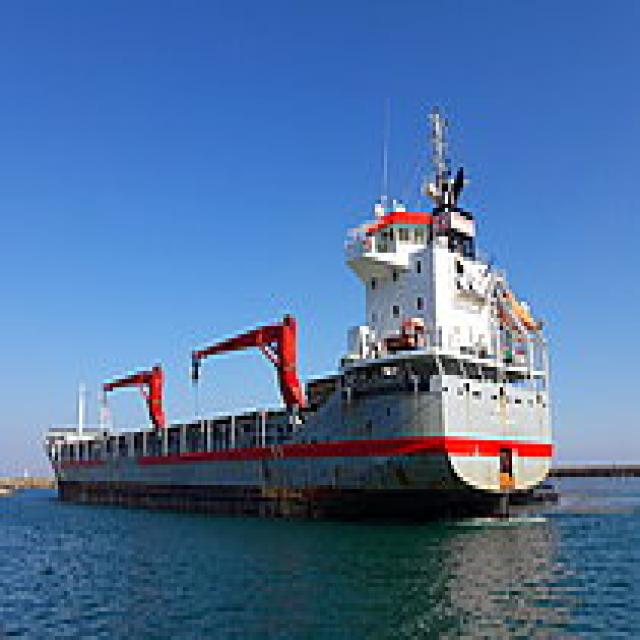Cargo: (37, 98, 554, 518)
